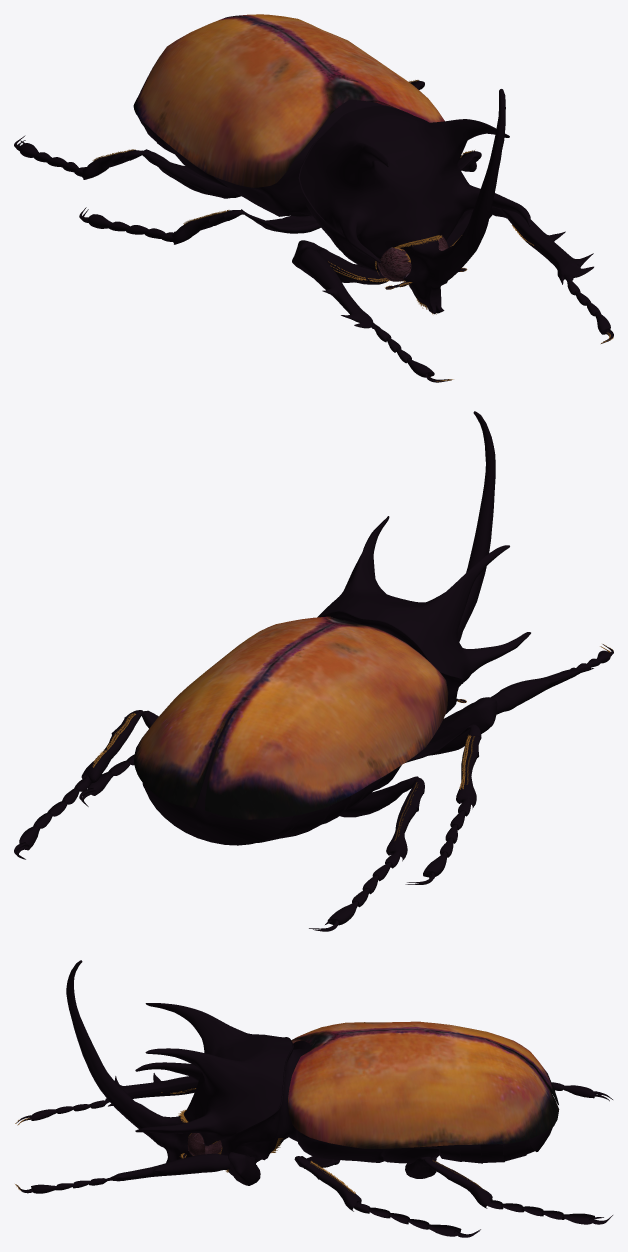
3 views of the same model, one above another, from view 1: azimuth 30°, elevation 25°; view 2: azimuth 150°, elevation 25°; view 3: azimuth 270°, elevation 25° (orthographic). The views are drawn at different scales.
Parts seen in each view (by area): view 1: 陆地动物007ok (×12); view 2: 陆地动物007ok (×10); view 3: 陆地动物007ok (×13).
Part boxes in pixels (left/top/right/bottom): 陆地动物007ok (×12): left=14, top=14, right=613, bottom=382; 陆地动物007ok (×10): left=14, top=411, right=613, bottom=931; 陆地动物007ok (×13): left=15, top=960, right=612, bottom=1237.
Bounding box in the file's own units: 2757 × 1973 × 4906.
